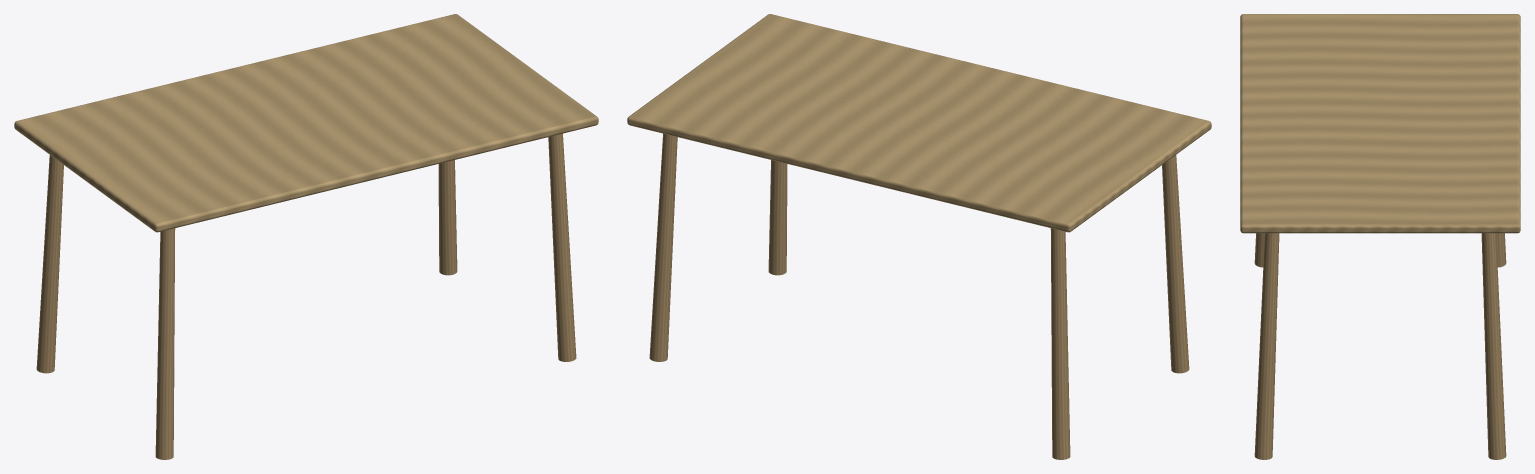
File: lisabo-table.glb
3 renders of one model, left to right at view 1: azimuth 30°, elevation 25°; view 2: azimuth 150°, elevation 25°; view 3: azimuth 270°, elevation 25°, orthographic.
Visible parts, largest first — view 1: LISABO Dining table; view 2: LISABO Dining table; view 3: LISABO Dining table.
Boxes of the visible parts, box(x1,y1,x2,y2) form: LISABO Dining table: box(14, 14, 598, 459); LISABO Dining table: box(627, 14, 1211, 459); LISABO Dining table: box(1240, 14, 1520, 459).
Size of the model in its own units: 1.4 by 0.74 by 0.78.
Materials: 2 (2 with a texture image).
